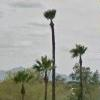Palm tree: (35, 4, 87, 90)
